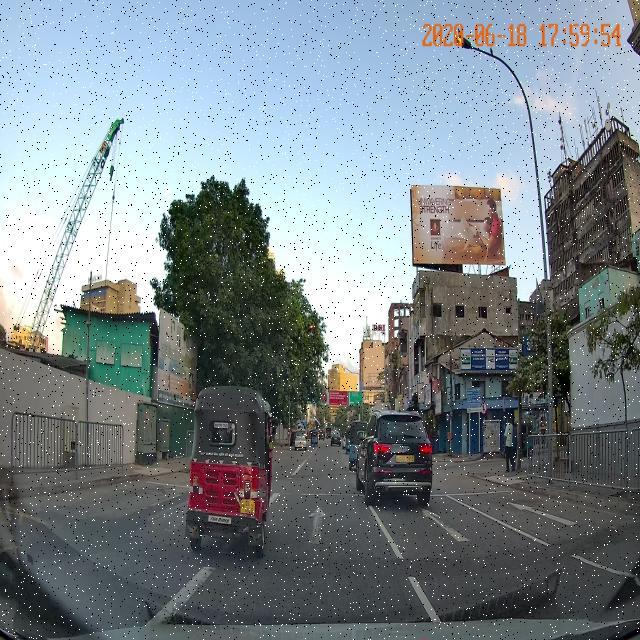forward: (260, 495, 410, 569)
